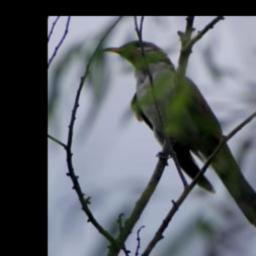Cuckoo: (103, 39, 256, 236)
